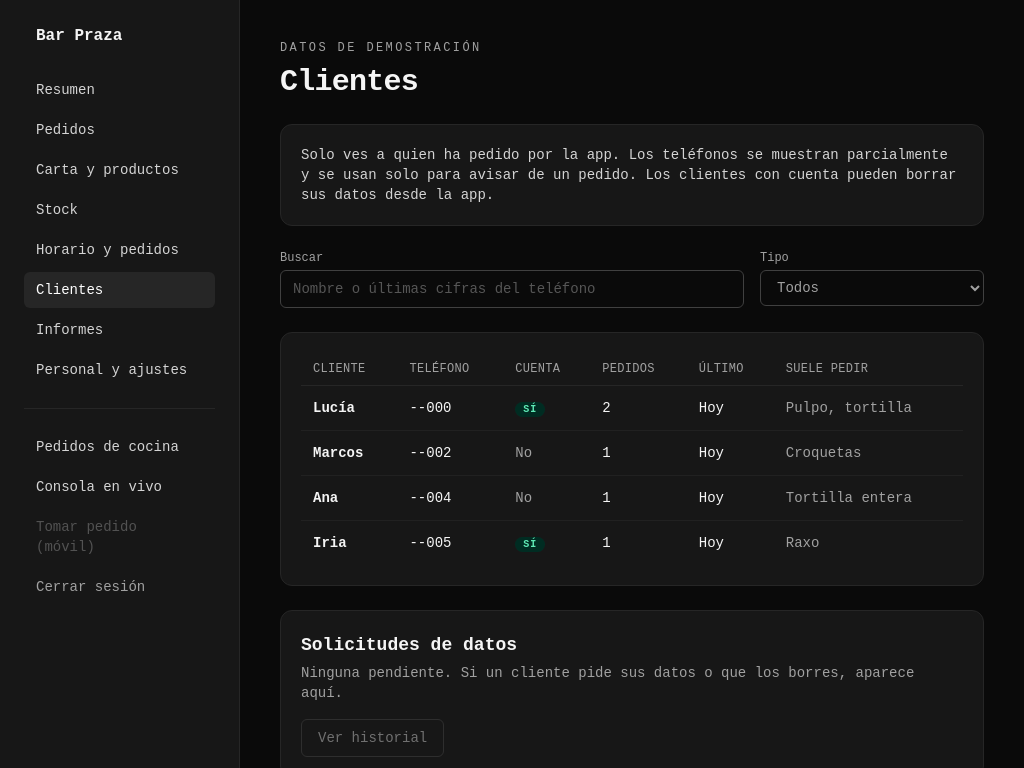
CustomersPage › searches by name or last digits
This screenshot has width=1024, height=768.
Expected: the text "Lucía" is shown, left=301, top=386, right=398, bottom=430
Type "002" into the search field labelled "Buscar" at (512, 289), box left=280, top=270, right=744, bottom=308
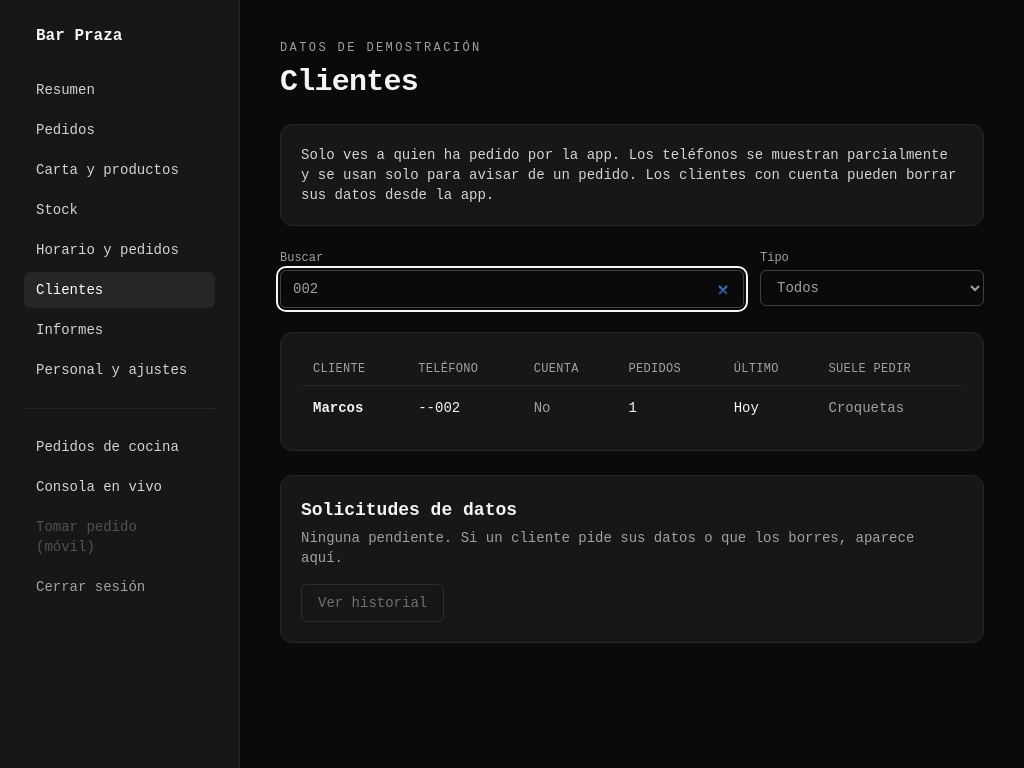
Expected: the text "Marcos" is shown, left=301, top=386, right=406, bottom=430
Expected: the text "Lucía" is gone
